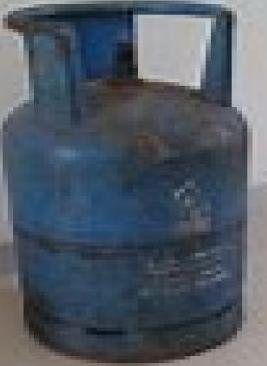cylinder: (0, 1, 267, 366)
